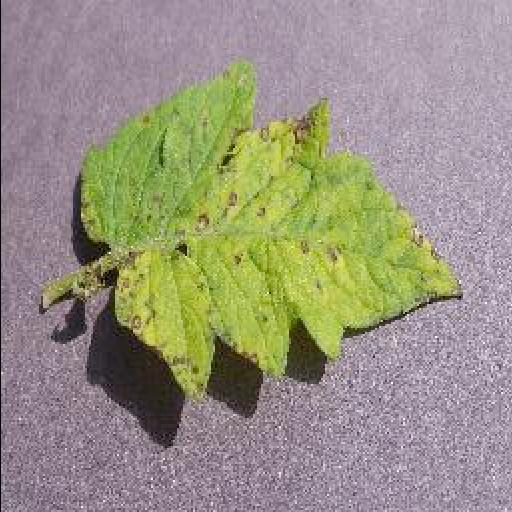disease_tomato: (82, 56, 470, 402)
